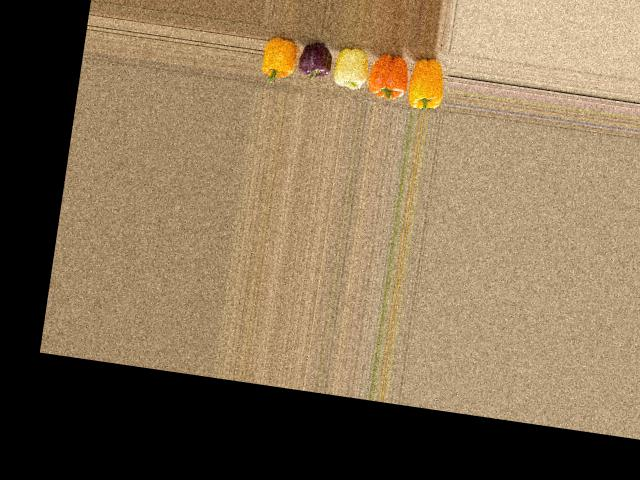bell_pepper: (256, 27, 297, 86)
